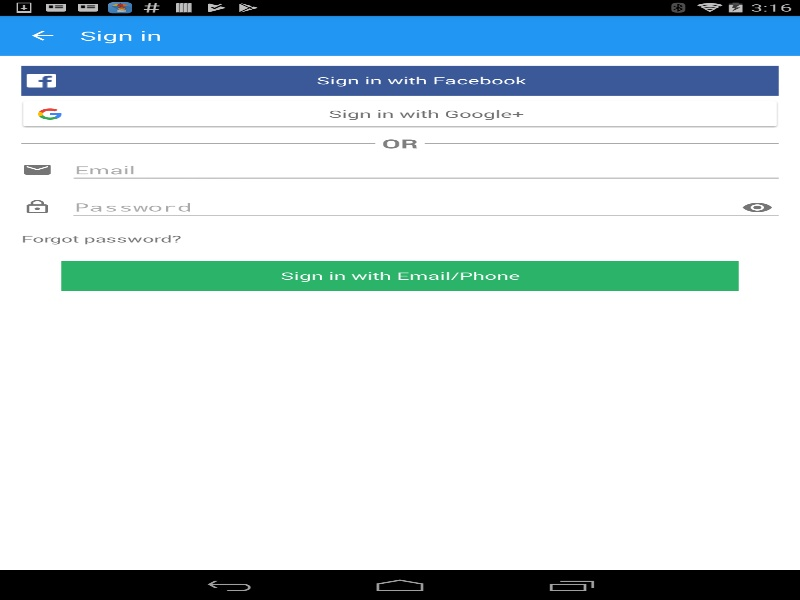Button: (18, 98, 782, 128), (21, 65, 778, 95), (61, 260, 738, 290), (0, 18, 74, 53)
Input: (21, 162, 778, 178), (21, 199, 778, 215)
